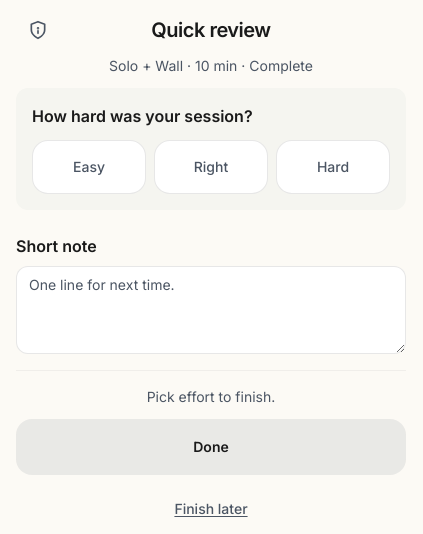
Scenario: ReviewScreen H19 conflict handoff › renders "already skipped" copy when existing record is a skip stub (adv-3 fix)
The image size is (423, 534).
Expected: the heading "Quick review" is shown, top-left (151, 16), bottom-right (271, 44)
What coordinates should you click on to do the following:
click the radio button labelled "Right"
I would click on:
 (211, 167)
Its box is top-left (154, 140), bottom-right (268, 194).
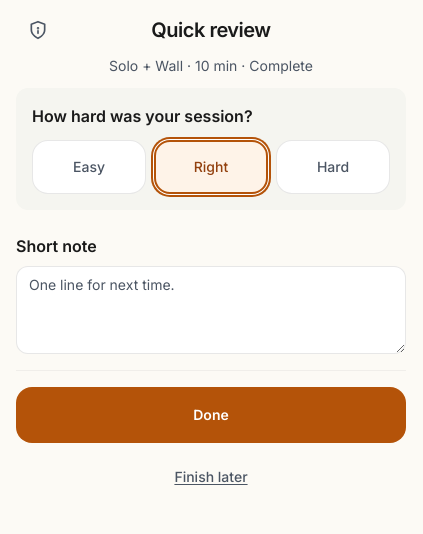
What coordinates should you click on to do the following:
click the button "Done"
I would click on:
 (211, 415)
Its box is top-left (16, 387), bottom-right (406, 443).
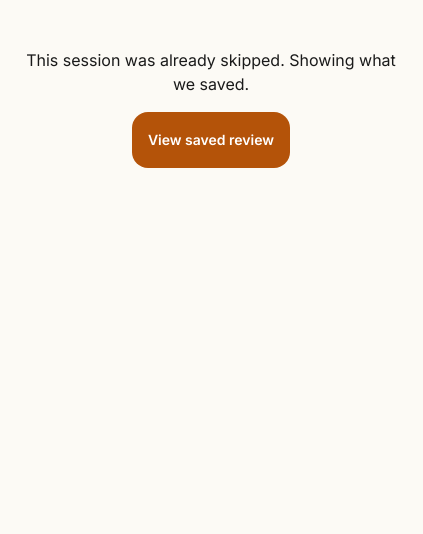
Now the text "This session was already skipped. Showing what we saved." is shown, box top-left (16, 48), bottom-right (406, 96)
